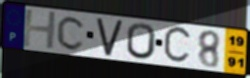8: (196, 30, 223, 69)
C: (162, 24, 194, 66), (55, 15, 87, 52)
H: (21, 9, 58, 51)
O: (126, 22, 158, 61)
V: (95, 17, 124, 58)
